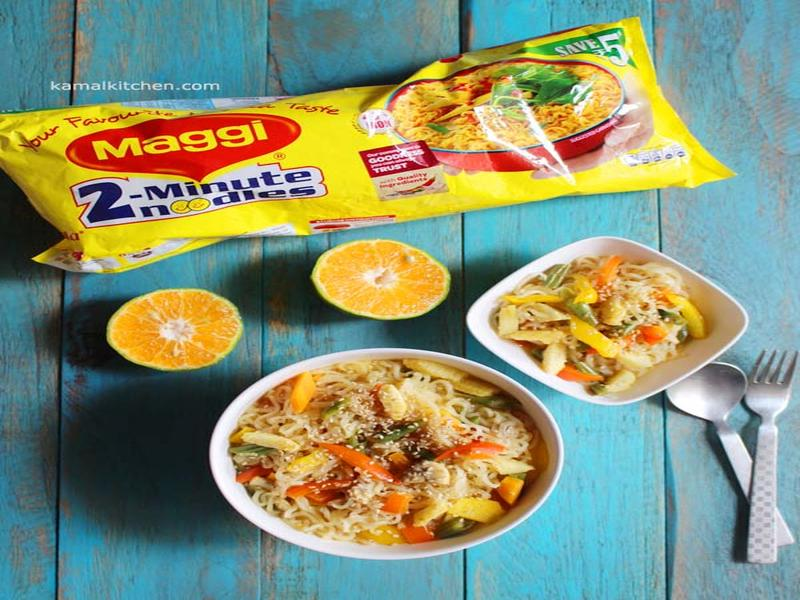maggi-family: (15, 24, 700, 261)
